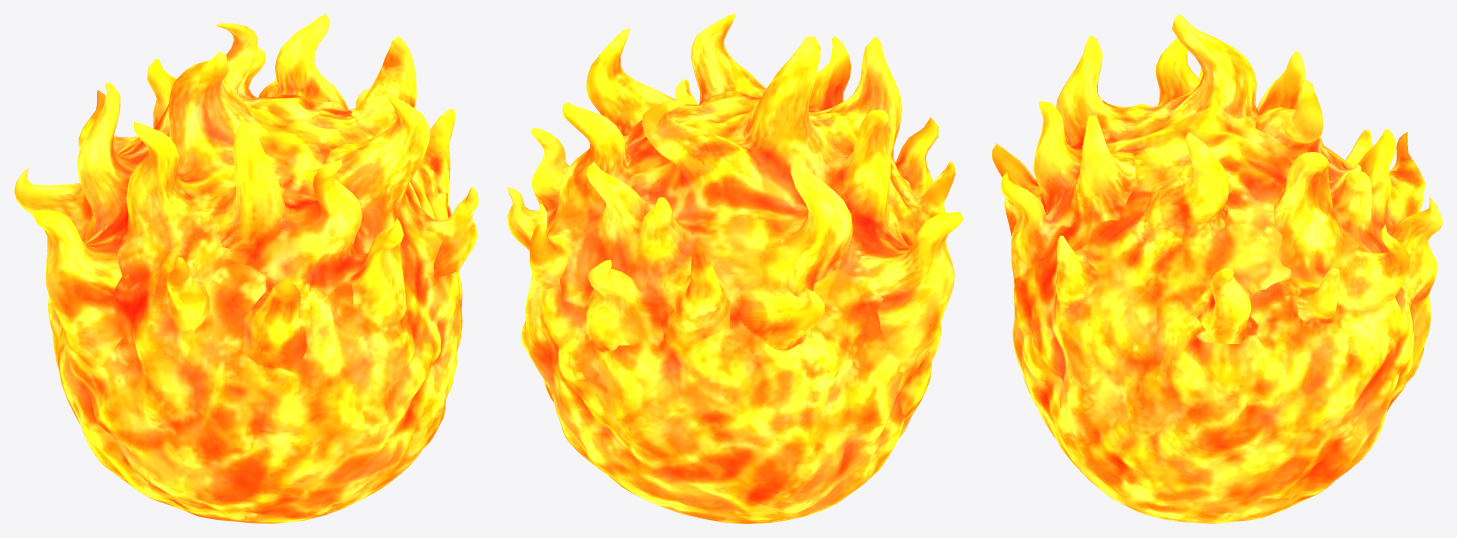
The model's file is MZ4250 - Flaming Sphere.glb.
3 renders of one model, left to right at view 1: azimuth 30°, elevation 25°; view 2: azimuth 150°, elevation 25°; view 3: azimuth 270°, elevation 25°, orthographic. The views are drawn at different scales.
Parts seen in each view (by area): view 1: ORGANIC BASE SPHERE.005; view 2: ORGANIC BASE SPHERE.005; view 3: ORGANIC BASE SPHERE.005.
Boxes of the visible parts, left/top/right/bottom form: ORGANIC BASE SPHERE.005: left=14, top=14, right=478, bottom=523; ORGANIC BASE SPHERE.005: left=507, top=14, right=963, bottom=523; ORGANIC BASE SPHERE.005: left=992, top=14, right=1442, bottom=523.
Size of the model in its own units: 0.8524 by 0.9058 by 0.8049.
1 material, 1 textured.
